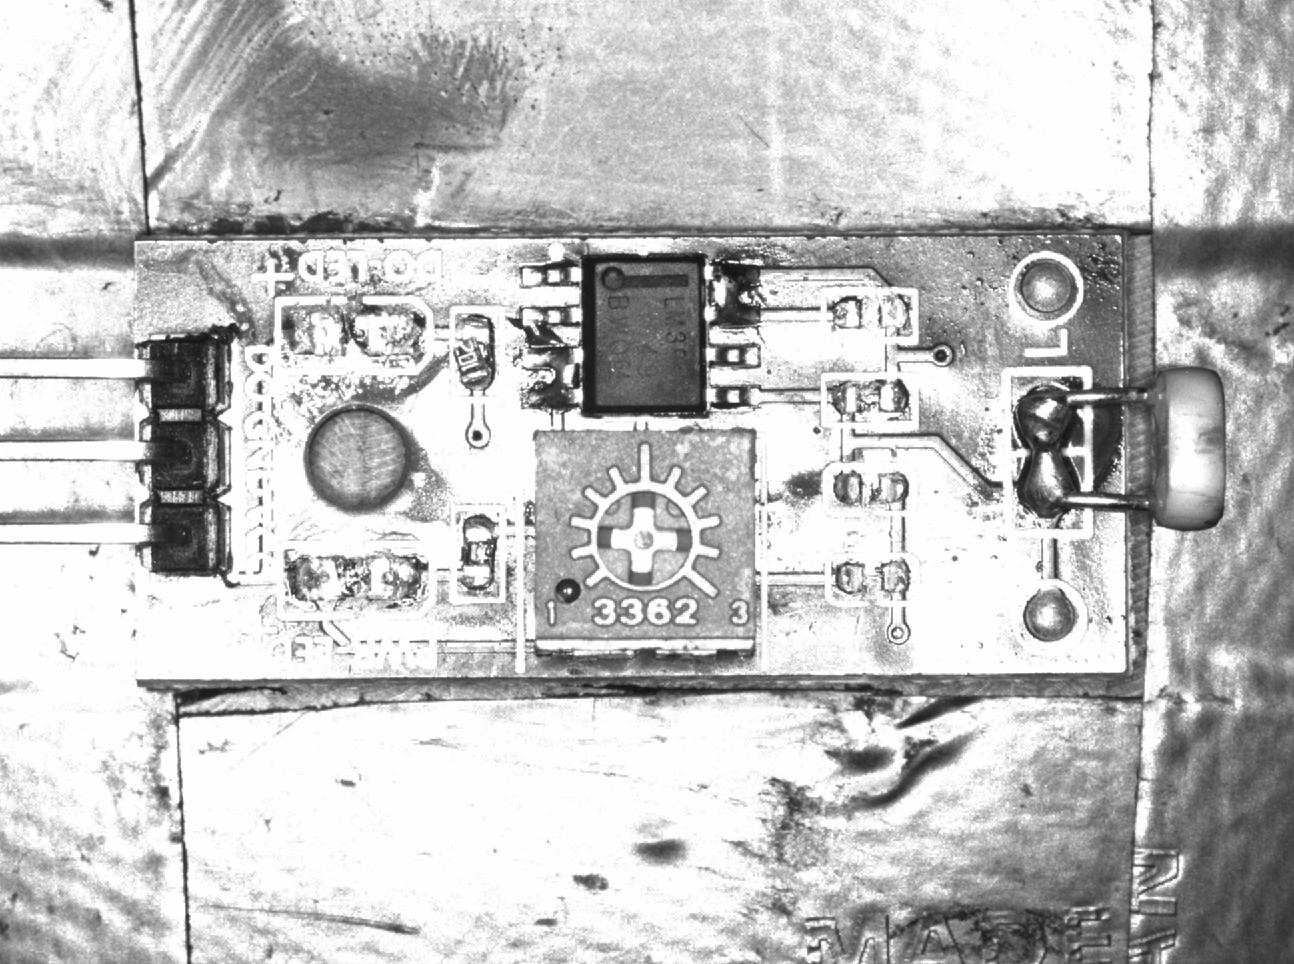lifted: (450, 307, 499, 396)
miss: (824, 550, 931, 611), (824, 373, 923, 433), (819, 290, 920, 343), (450, 504, 503, 602), (826, 463, 918, 515)
ok: (1009, 373, 1091, 534), (518, 342, 583, 413), (704, 258, 763, 331)
